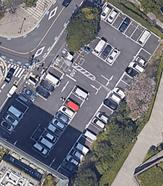parkingspot: (55, 47, 153, 181), (29, 84, 91, 159), (98, 2, 154, 48), (0, 84, 39, 141), (33, 64, 65, 101), (87, 36, 122, 67)
